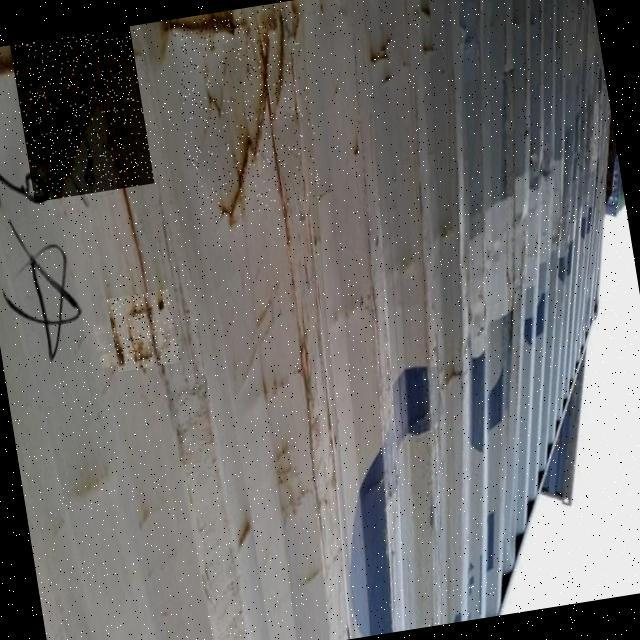Rust: (168, 4, 326, 223), (11, 26, 155, 202), (108, 289, 183, 372)
